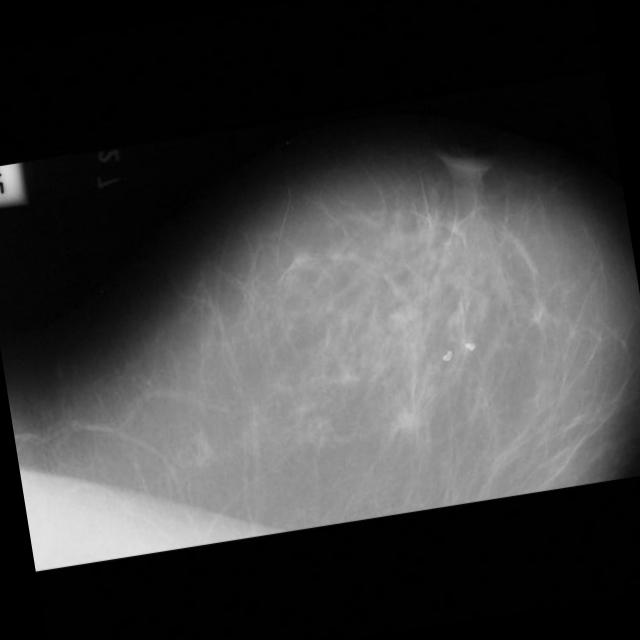SPIC: (392, 402, 422, 432)
